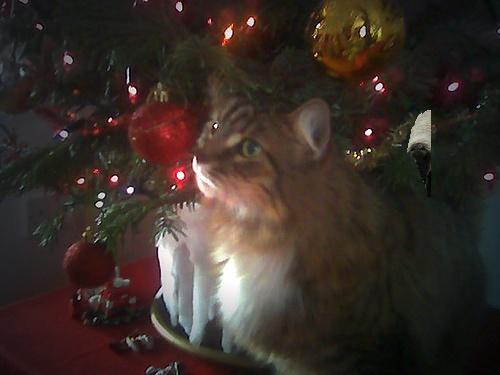tampered: (408, 111, 431, 198)
